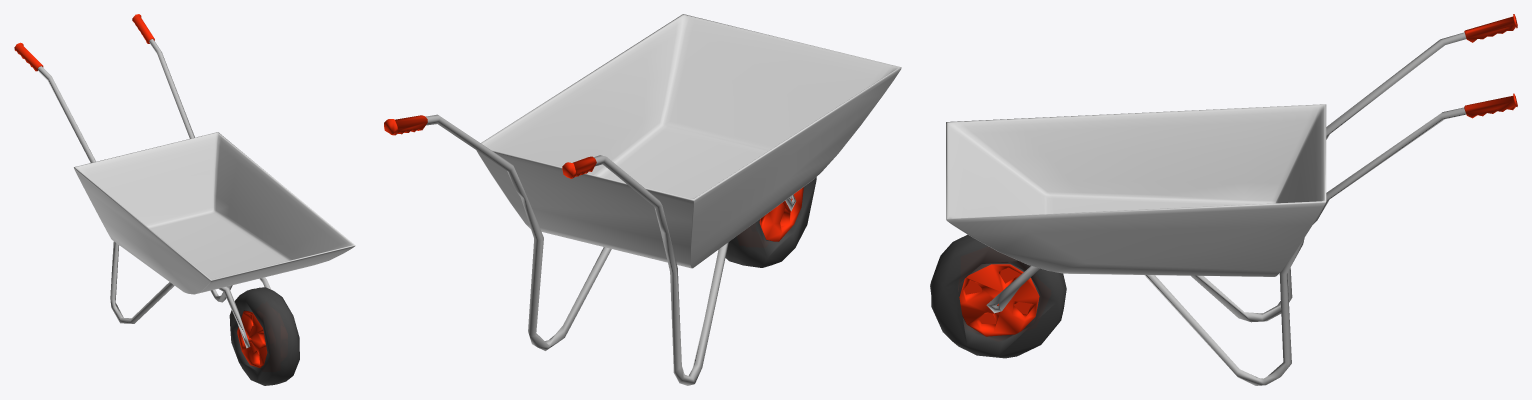
Rendered from Wheelbarrow.fbx.
The picture shows the model from 3 angles, left to right: view 1: azimuth 30°, elevation 25°; view 2: azimuth 150°, elevation 25°; view 3: azimuth 270°, elevation 25°; orthographic projection. The views are drawn at different scales.
Visible parts, largest first — view 1: Container, Wheel, Metal_Frame, Metal_Frame_Endings; view 2: Container, Metal_Frame, Wheel, Metal_Frame_Endings; view 3: Container, Wheel, Metal_Frame, Metal_Frame_Endings.
Part boxes in pixels (x1,y1,x2,y2): Container: (74, 132, 355, 294); Wheel: (229, 287, 299, 385); Metal_Frame: (38, 39, 271, 348); Metal_Frame_Endings: (14, 14, 154, 71); Container: (476, 14, 901, 268); Metal_Frame: (426, 114, 796, 385); Wheel: (725, 177, 816, 267); Metal_Frame_Endings: (384, 115, 596, 178); Container: (946, 104, 1326, 276); Wheel: (930, 234, 1066, 358); Metal_Frame: (986, 32, 1466, 385); Metal_Frame_Endings: (1464, 14, 1517, 118).
Size of the model in its own units: 58.72 by 83.75 by 149.
